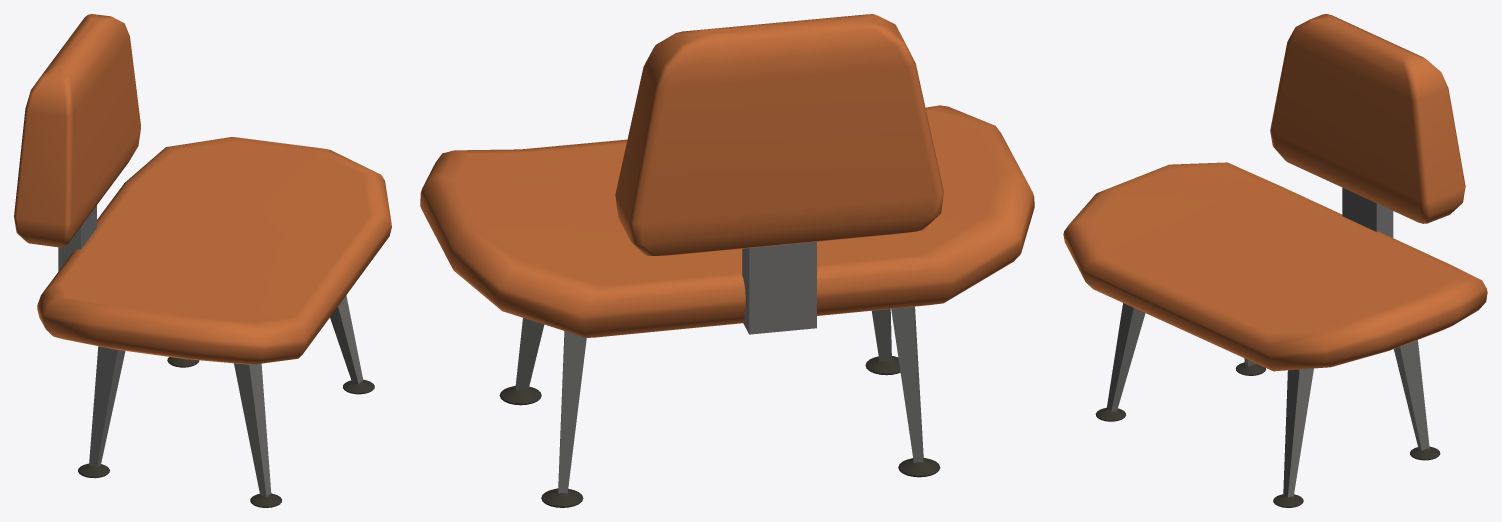
Rendered from Orange_Chair 1.fbx.
The picture shows the model from 3 angles, left to right: view 1: azimuth 30°, elevation 25°; view 2: azimuth 150°, elevation 25°; view 3: azimuth 270°, elevation 25°; orthographic projection. The views are drawn at different scales.
Parts seen in each view (by area): view 1: polySurface477; view 2: polySurface477; view 3: polySurface477.
Boxes of the visible parts, x1,y1,x2,y2 form: polySurface477: (14, 14, 391, 507); polySurface477: (420, 14, 1034, 507); polySurface477: (1063, 14, 1487, 507).
Bounding box in the file's own units: 0.696 × 0.631 × 0.6805.
